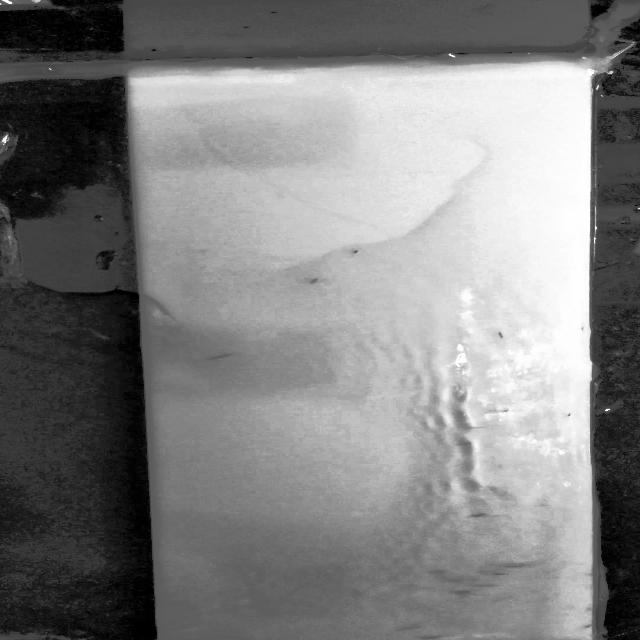shrimp: (394, 620, 424, 633), (301, 273, 331, 285), (198, 353, 233, 363), (346, 248, 374, 259), (426, 563, 449, 574), (498, 562, 521, 572), (474, 596, 498, 604), (453, 590, 476, 598), (467, 510, 488, 518), (562, 410, 577, 420), (496, 329, 507, 339), (489, 571, 509, 576), (442, 584, 465, 588), (478, 584, 497, 588), (428, 636, 453, 639)
